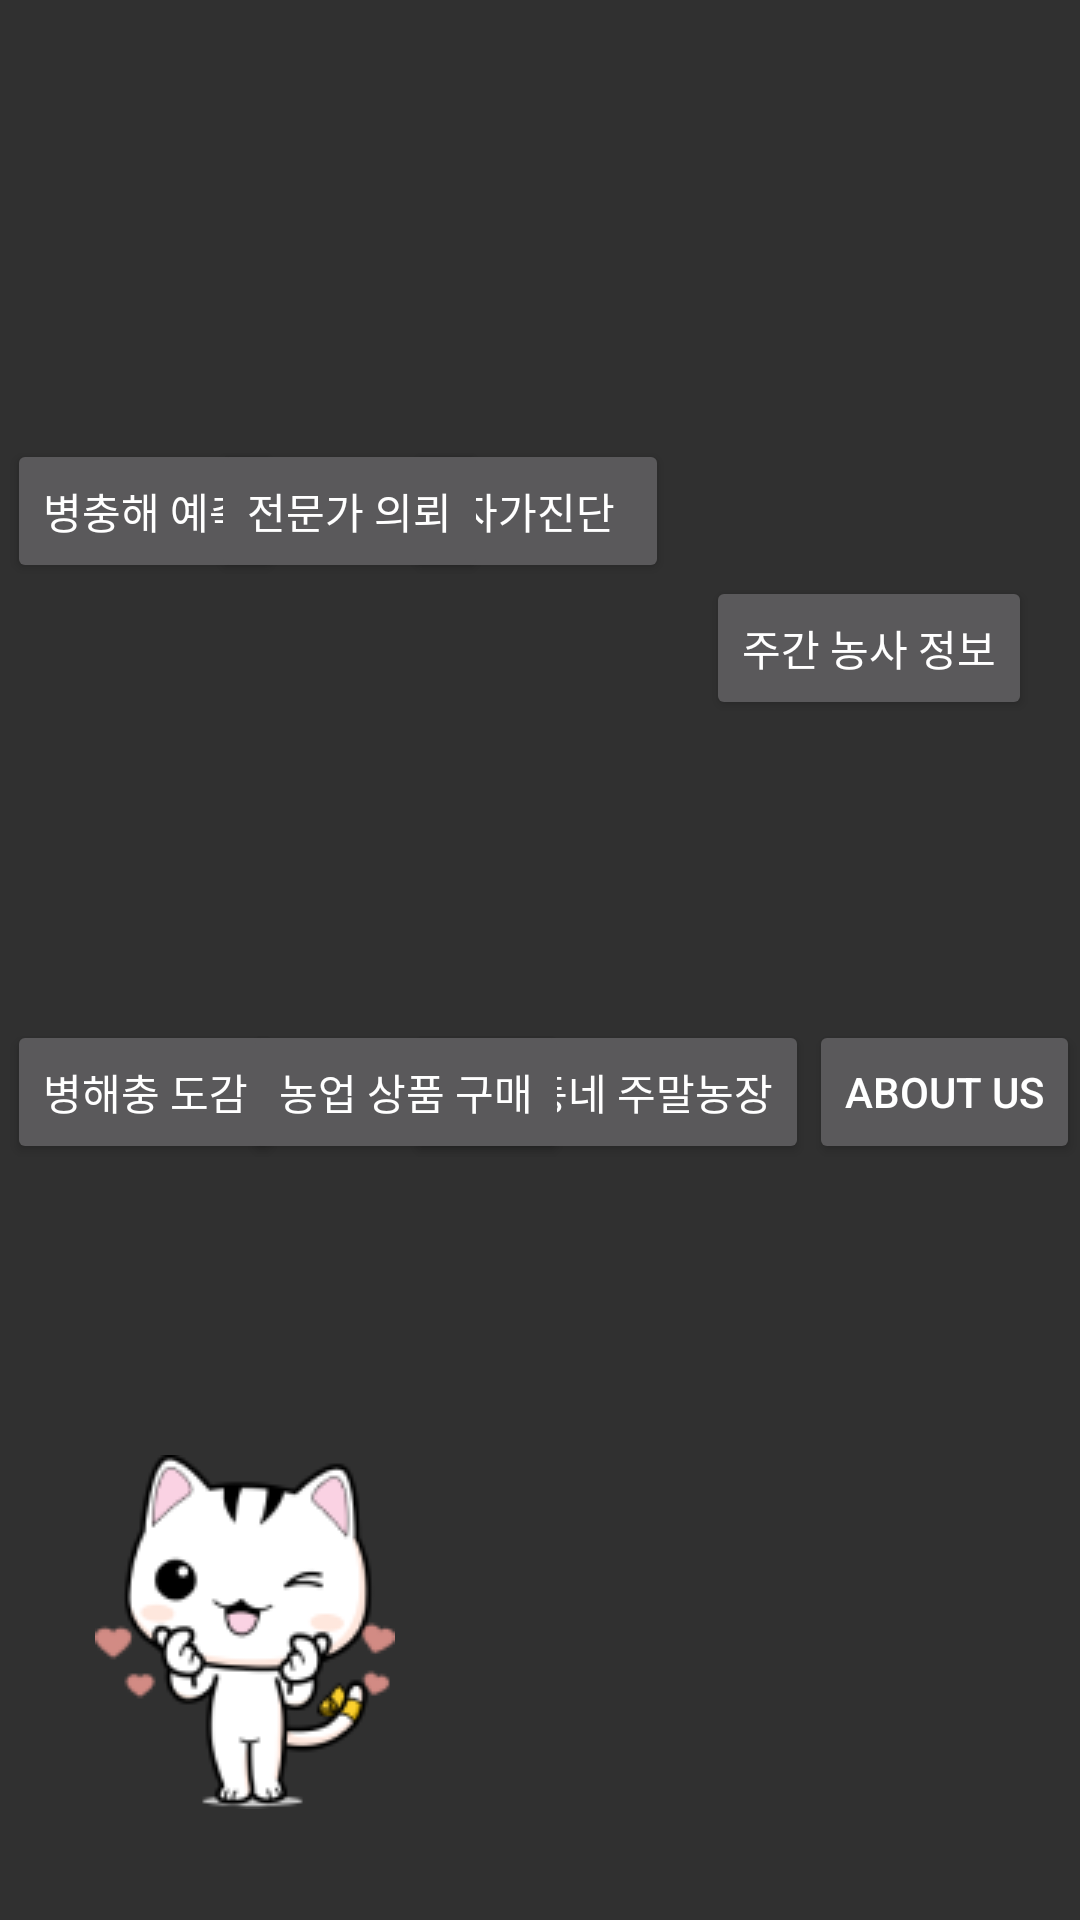

Screen size 1080 × 1920. Icon name, then its center in pixels as (x,y):
cat: (245,1631)
